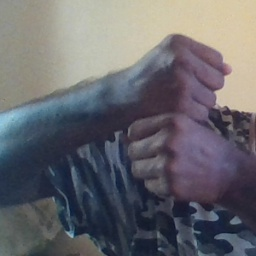G: (126, 30, 235, 204)
